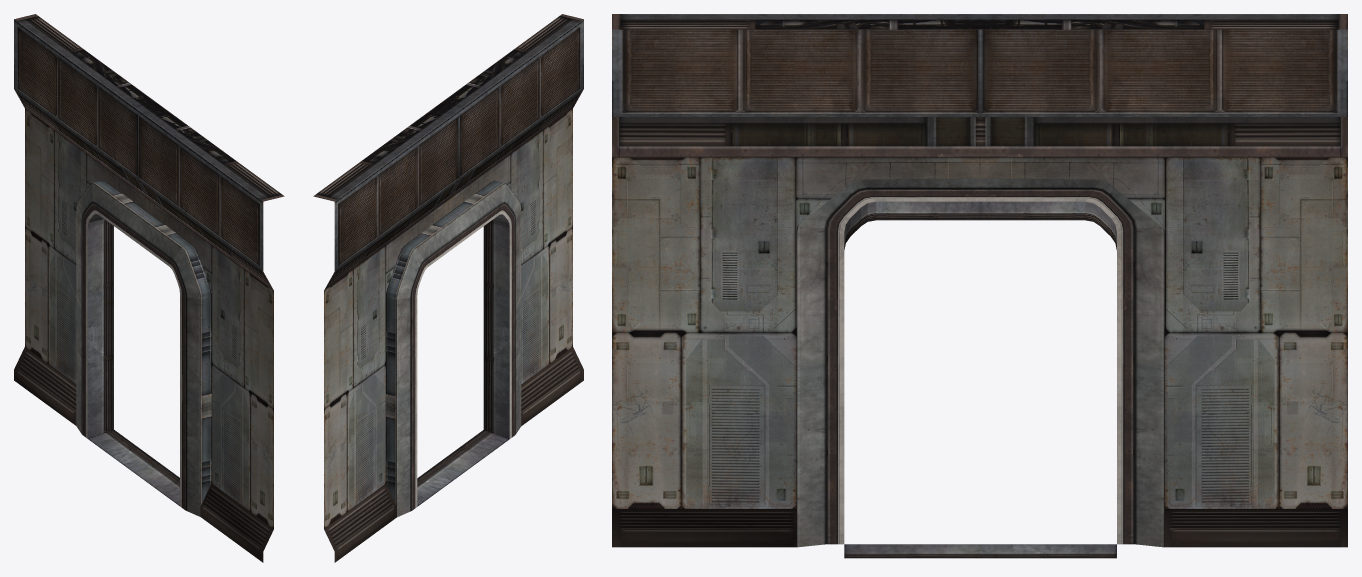
Rendered from ARC_Wall_High_DoorSmallFrame_CONNECT.FBX.
The picture shows the model from 3 angles, left to right: view 1: azimuth 30°, elevation 25°; view 2: azimuth 150°, elevation 25°; view 3: azimuth 270°, elevation 25°; orthographic projection. The views are drawn at different scales.
Visible parts, largest first — view 1: ARC_Wall_High_DoorSmallFrame_CONNECT; view 2: ARC_Wall_High_DoorSmallFrame_CONNECT; view 3: ARC_Wall_High_DoorSmallFrame_CONNECT.
Boxes of the visible parts, box(x1,y1,x2,y2) form: ARC_Wall_High_DoorSmallFrame_CONNECT: box(14, 14, 284, 562); ARC_Wall_High_DoorSmallFrame_CONNECT: box(313, 14, 583, 562); ARC_Wall_High_DoorSmallFrame_CONNECT: box(612, 14, 1347, 558).
Size of the model in its own units: 30.26 by 400 by 500.
Materials: 1 (1 with a texture image).
